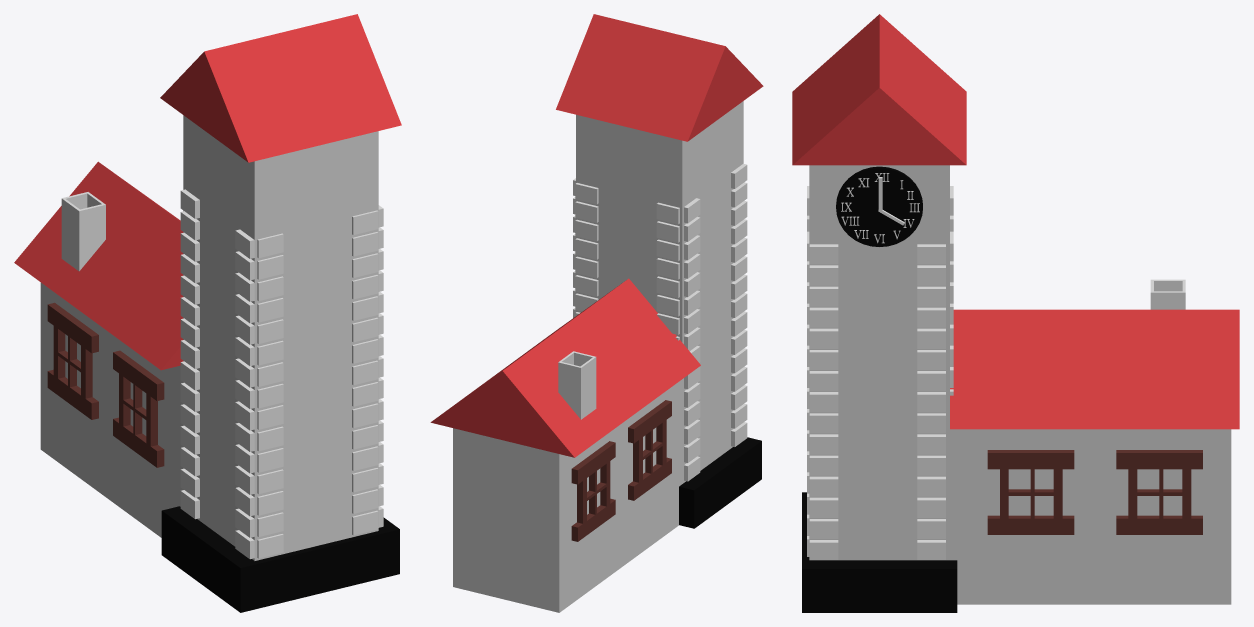
File: TownHall.fbx
3 views of the same model, side by side, from view 1: azimuth 30°, elevation 25°; view 2: azimuth 150°, elevation 25°; view 3: azimuth 270°, elevation 25° (orthographic). The views are drawn at different scales.
Parts seen in each view (by area): view 1: Cube, Cube.027, Plane, Plane.001, Cube.029, Cube.028, Cube.021, Cube.015, Cube.016, Cube.022, Cube.019, Cube.013 (+2 smaller); view 2: Cube, Plane.001, Plane, Cube.027, Cube.029, Cube.028, Cube.021, Cube.015, Cube.022, Cube.016; view 3: Cube, Plane.001, Cube.027, Plane, Cube.029, Circle, Cube.003, Cube.009, Cube.004, Cube.010, Cube.028.
Boxes of the visible parts, box(x1,y1,x2,y2) form: Cube: box(40, 115, 378, 560); Cube.027: box(180, 189, 383, 559); Plane: box(160, 14, 401, 162); Plane.001: box(14, 161, 183, 370); Cube.029: box(161, 506, 399, 612); Cube.028: box(61, 192, 105, 271); Cube.021: box(47, 302, 98, 353); Cube.015: box(113, 350, 164, 400); Cube.016: box(113, 417, 164, 467); Cube.022: box(47, 369, 98, 419); Cube.019: box(81, 345, 92, 399); Cube.013: box(146, 393, 157, 447); Cube: box(453, 101, 743, 612); Plane.001: box(430, 278, 700, 457); Plane: box(556, 14, 763, 141); Cube.027: box(573, 163, 747, 481); Cube.029: box(679, 437, 761, 528); Cube.028: box(558, 351, 596, 419); Cube.021: box(571, 441, 615, 484); Cube.015: box(628, 400, 671, 443); Cube.022: box(571, 498, 615, 541); Cube.016: box(628, 457, 671, 500); Cube: box(809, 165, 1231, 604); Plane.001: box(950, 309, 1239, 429); Cube.027: box(807, 186, 953, 559); Plane: box(792, 14, 966, 165); Cube.029: box(802, 492, 957, 612); Circle: box(836, 166, 922, 246); Cube.003: box(987, 450, 1074, 469); Cube.009: box(1116, 450, 1202, 469); Cube.004: box(987, 515, 1074, 534); Cube.010: box(1116, 515, 1202, 534); Cube.028: box(1150, 279, 1185, 309).
Bounding box in the file's own units: 680 × 2056 × 1590.
